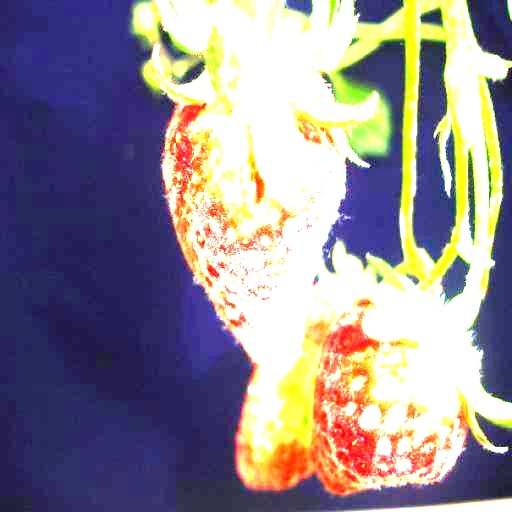Powdery Mildew Fruit: (162, 25, 347, 377), (325, 289, 473, 488)
